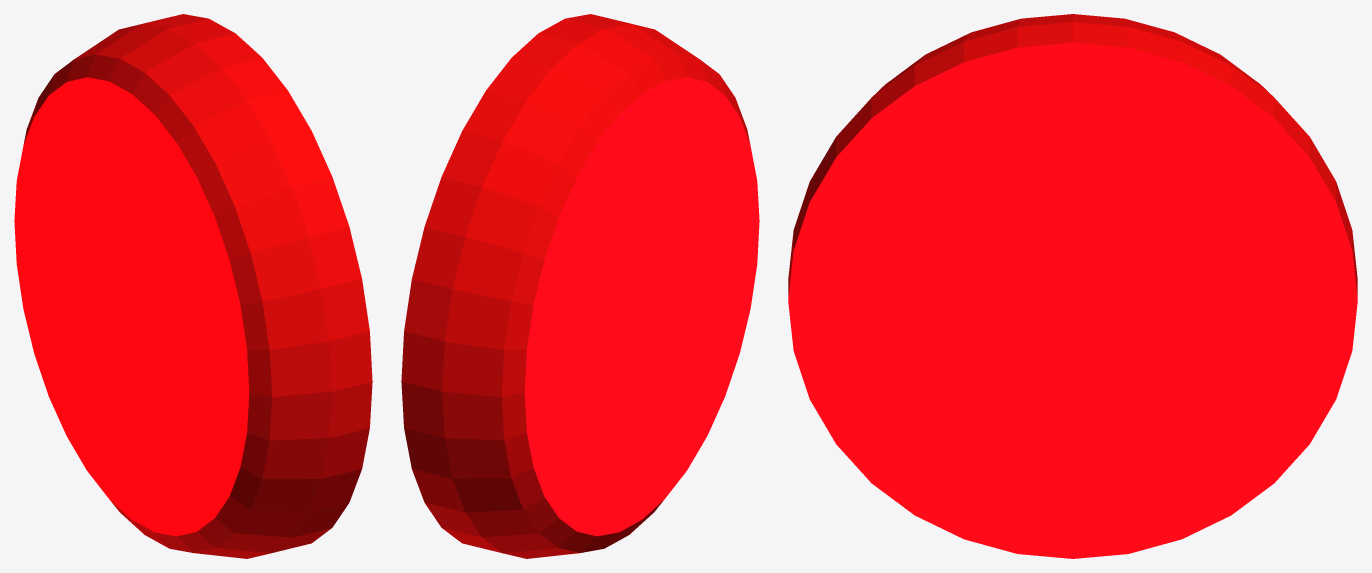
Rendered from Button.fbx.
3 renders of one model, left to right at view 1: azimuth 30°, elevation 25°; view 2: azimuth 150°, elevation 25°; view 3: azimuth 270°, elevation 25°, orthographic. The views are drawn at different scales.
Visible parts, largest first — view 1: Button; view 2: Button; view 3: Button.
Boxes of the visible parts, x1,y1,x2,y2 form: Button: [14, 14, 372, 558]; Button: [401, 14, 759, 558]; Button: [788, 14, 1357, 558].
Size of the model in its own units: 0.0528 by 0.241 by 0.241.
